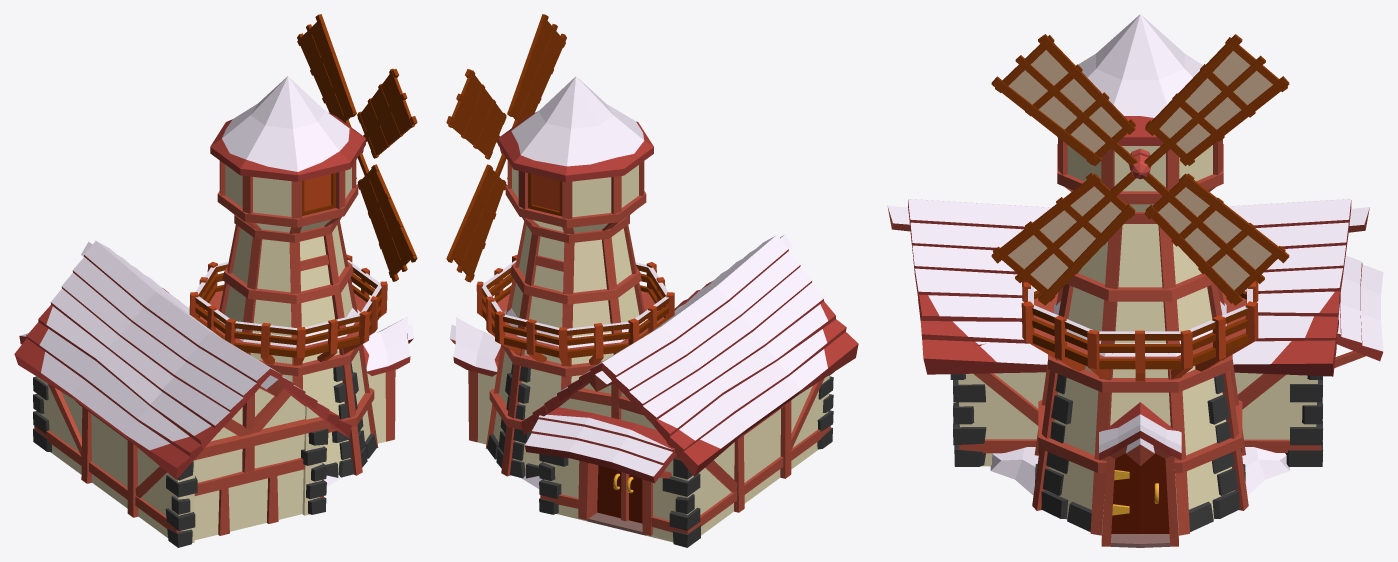
The model's file is Low_poly_medieval_windmill.glb.
3 renders of one model, left to right at view 1: azimuth 30°, elevation 25°; view 2: azimuth 150°, elevation 25°; view 3: azimuth 270°, elevation 25°, orthographic. The views are drawn at different scales.
Parts seen in each view (by area): view 1: Windmill_Medieval_0; view 2: Windmill_Medieval_0; view 3: Windmill_Medieval_0.
Part boxes in pixels (left/top/right/bottom): Windmill_Medieval_0: left=14, top=14, right=417, bottom=547; Windmill_Medieval_0: left=446, top=14, right=858, bottom=547; Windmill_Medieval_0: left=887, top=14, right=1383, bottom=547.
Bounding box in the file's own units: 5.76 × 6.7 × 6.05.
Materials: 1 (1 with a texture image).
